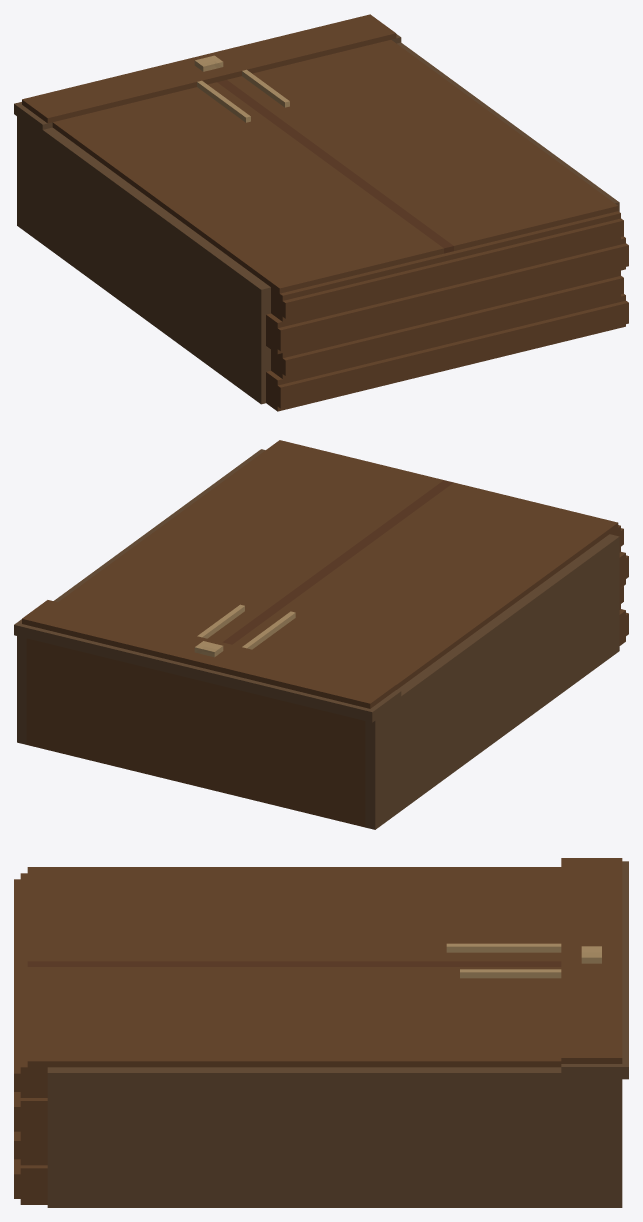
Rendered from pants_fur.glb.
The picture shows the model from 3 angles, top to bottom: view 1: azimuth 30°, elevation 25°; view 2: azimuth 150°, elevation 25°; view 3: azimuth 270°, elevation 25°; orthographic projection. The views are drawn at different scales.
Parts seen in each view (by area): view 1: pants_fur:compound; view 2: pants_fur:compound; view 3: pants_fur:compound.
Part boxes in pixels (bbox=[...]): pants_fur:compound: bbox=[14, 14, 628, 411]; pants_fur:compound: bbox=[14, 440, 628, 829]; pants_fur:compound: bbox=[14, 858, 628, 1207].
Size of the model in its own units: 0.288 by 0.1 by 0.364.
